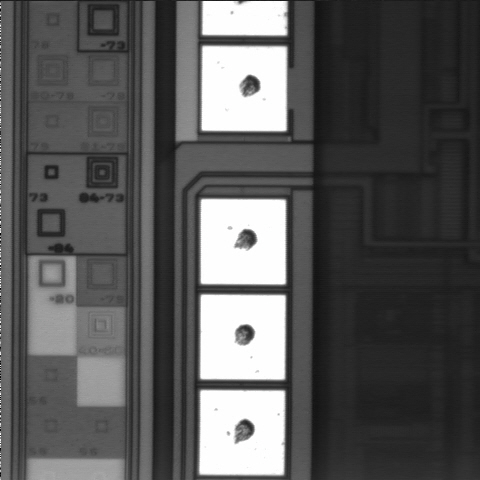pad: (199, 390, 285, 475), (202, 46, 287, 131), (201, 199, 286, 284), (200, 295, 285, 380)
